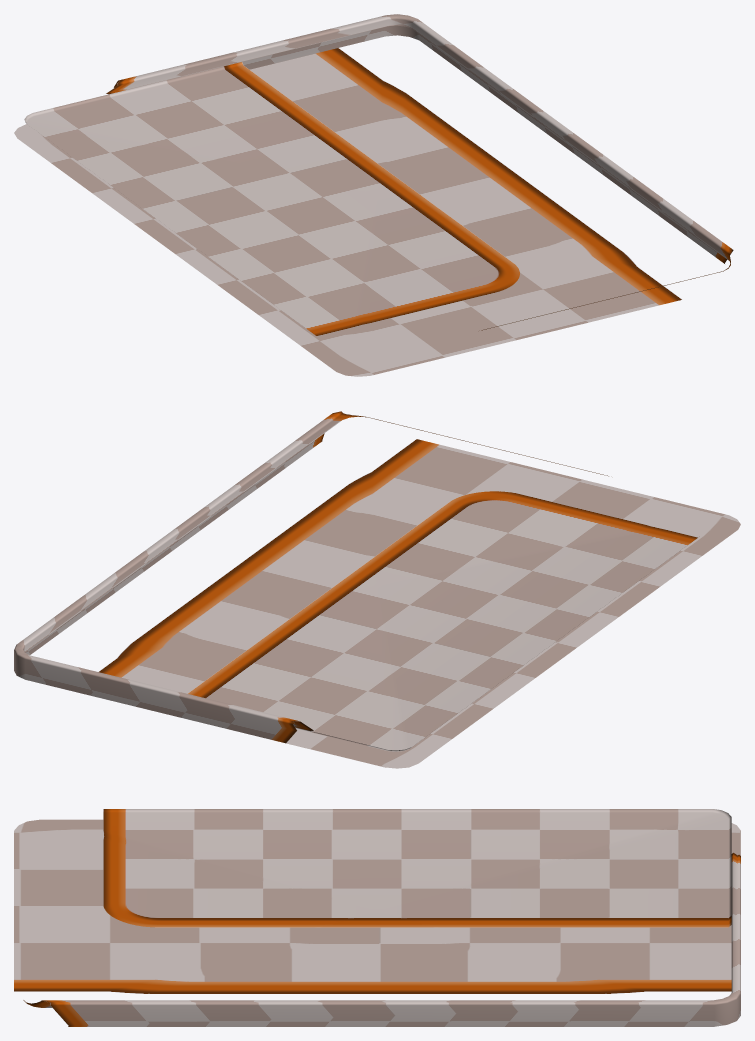
File: Model_Board.fbx
The picture shows the model from 3 angles, top to bottom: view 1: azimuth 30°, elevation 25°; view 2: azimuth 150°, elevation 25°; view 3: azimuth 270°, elevation 25°; orthographic projection. The views are drawn at different scales.
Visible parts, largest first — view 1: Model_Board; view 2: Model_Board; view 3: Model_Board.
Boxes of the visible parts, x1,y1,x2,y2 form: Model_Board: (14,14,733,376); Model_Board: (14,411,740,768); Model_Board: (14,809,740,1026).
Size of the model in its own units: 1352 by 70.76 by 2004.
